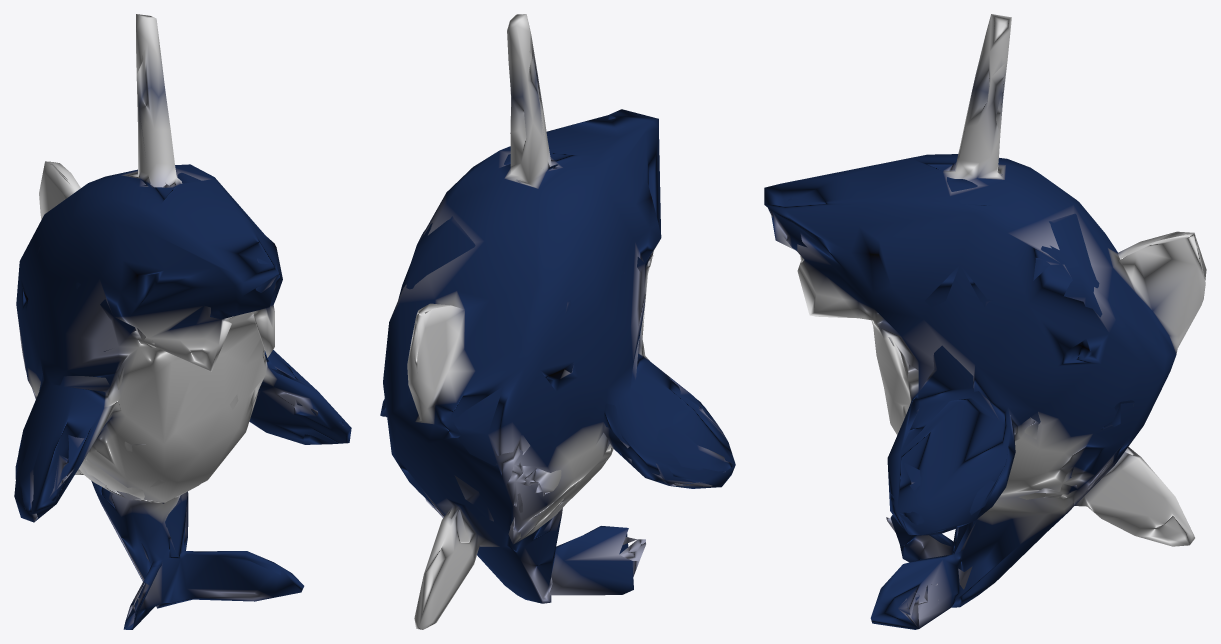
File: gen3d-narwhal-lod0.glb
The picture shows the model from 3 angles, left to right: view 1: azimuth 30°, elevation 25°; view 2: azimuth 150°, elevation 25°; view 3: azimuth 270°, elevation 25°; orthographic projection. The views are drawn at different scales.
Parts seen in each view (by area): view 1: part_0; view 2: part_0; view 3: part_0.
Part boxes in pixels (box(x1,y1,x2,y2)): part_0: box(14, 14, 351, 629); part_0: box(380, 14, 735, 629); part_0: box(764, 14, 1206, 629).
Bounding box in the file's own units: 0.5857 × 0.998 × 0.6834.
